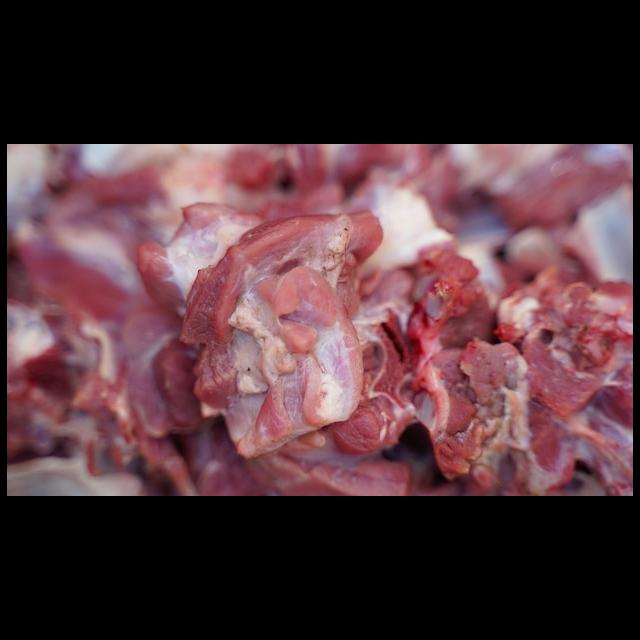pork: (11, 150, 633, 496)
